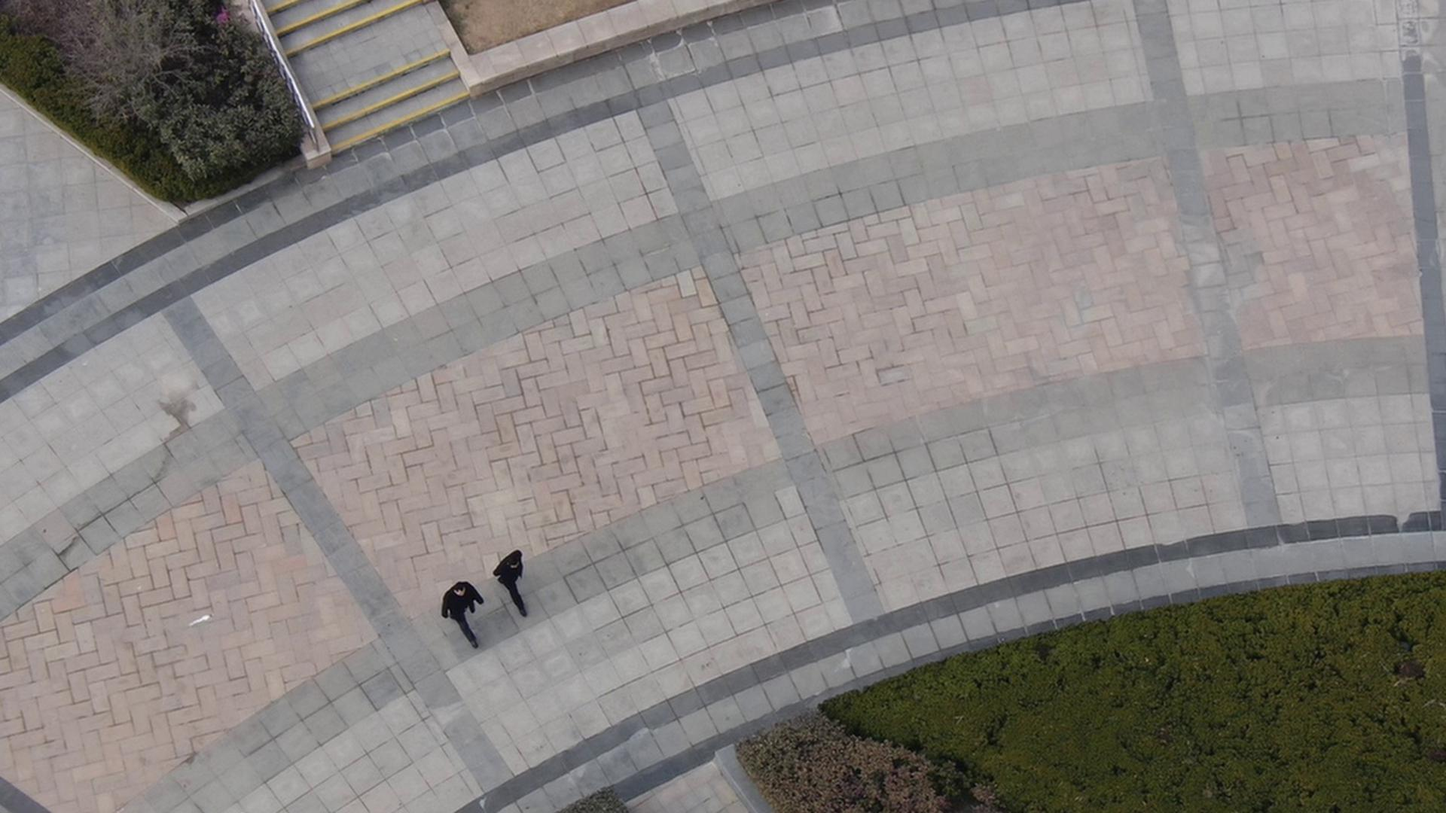human: (495, 535, 537, 611), (446, 572, 490, 637)
